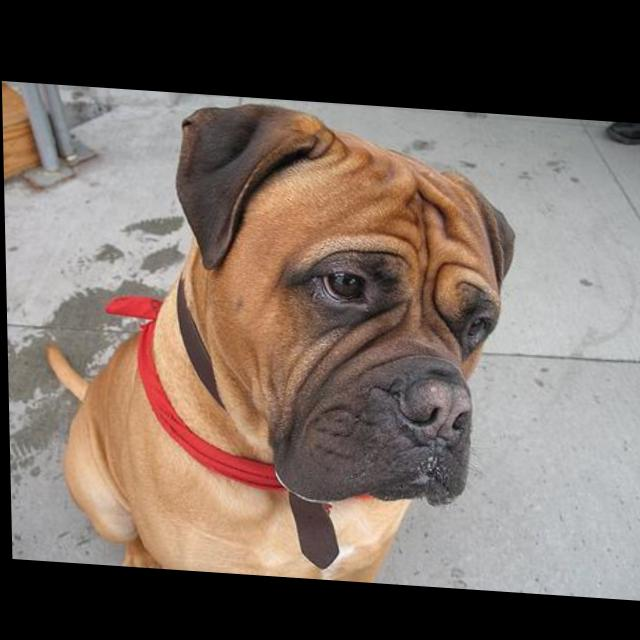bullmastiff: (40, 88, 523, 587)
